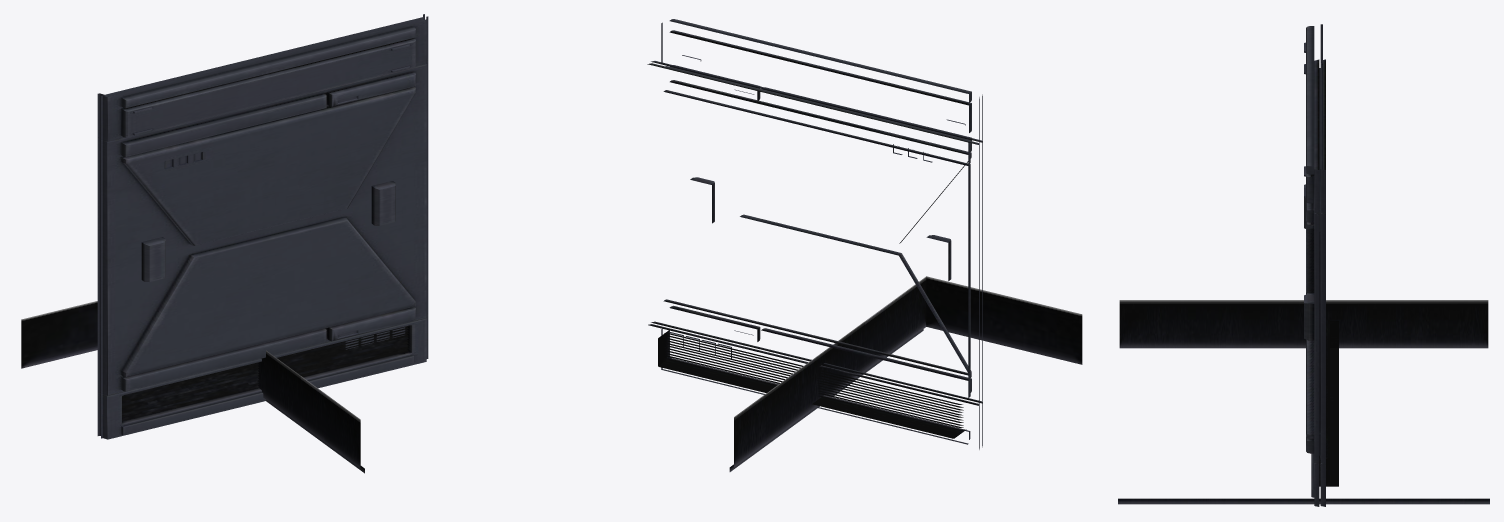
The model's file is venator-room-modules.glb.
3 views of the same model, side by side, from view 1: azimuth 30°, elevation 25°; view 2: azimuth 150°, elevation 25°; view 3: azimuth 270°, elevation 25° (orthographic). The views are drawn at different scales.
Visible parts, largest first — view 1: WallPanel6, VenatorLight7, WallPanel8; view 2: WallPanel6, VenatorLight7, WallPanel8; view 3: VenatorLight7, WallPanel6, WallPanel8.
Part boxes in pixels (left/top/right/bottom): WallPanel6: left=101, top=16, right=428, bottom=439; VenatorLight7: left=21, top=301, right=364, bottom=473; WallPanel8: left=97, top=14, right=424, bottom=435; WallPanel6: left=651, top=19, right=982, bottom=447; VenatorLight7: left=729, top=276, right=1082, bottom=471; WallPanel8: left=647, top=22, right=979, bottom=449; VenatorLight7: left=1118, top=300, right=1489, bottom=504; WallPanel6: left=1304, top=26, right=1338, bottom=506; WallPanel8: left=1304, top=24, right=1325, bottom=506.
Bounding box in the file's own units: 1 × 1 × 1.
2 materials, 2 textured.
